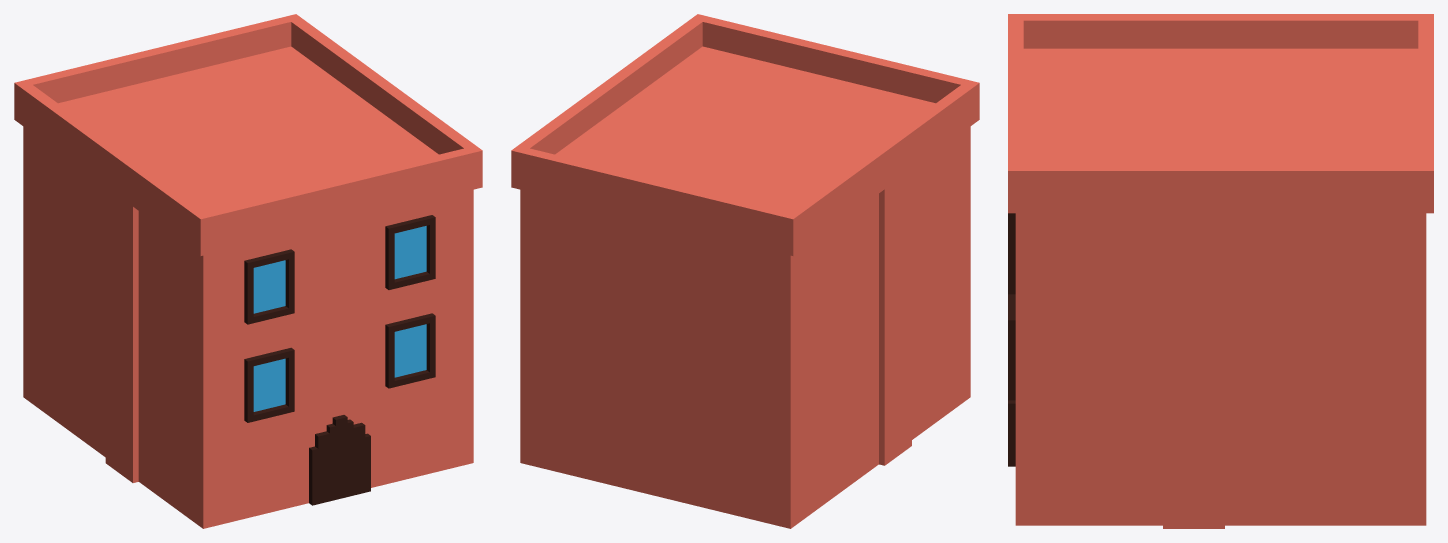
Rendered from building.fbx.
3 renders of one model, left to right at view 1: azimuth 30°, elevation 25°; view 2: azimuth 150°, elevation 25°; view 3: azimuth 270°, elevation 25°, orthographic. The views are drawn at different scales.
Parts seen in each view (by area): view 1: Matrix; view 2: Matrix; view 3: Matrix.
Part boxes in pixels (box(x1,y1,x2,y2)): Matrix: box(14, 14, 482, 528); Matrix: box(511, 14, 979, 528); Matrix: box(1008, 14, 1433, 528).
Size of the model in its own units: 48 by 51 by 55.
Materials: 1 (1 with a texture image).
